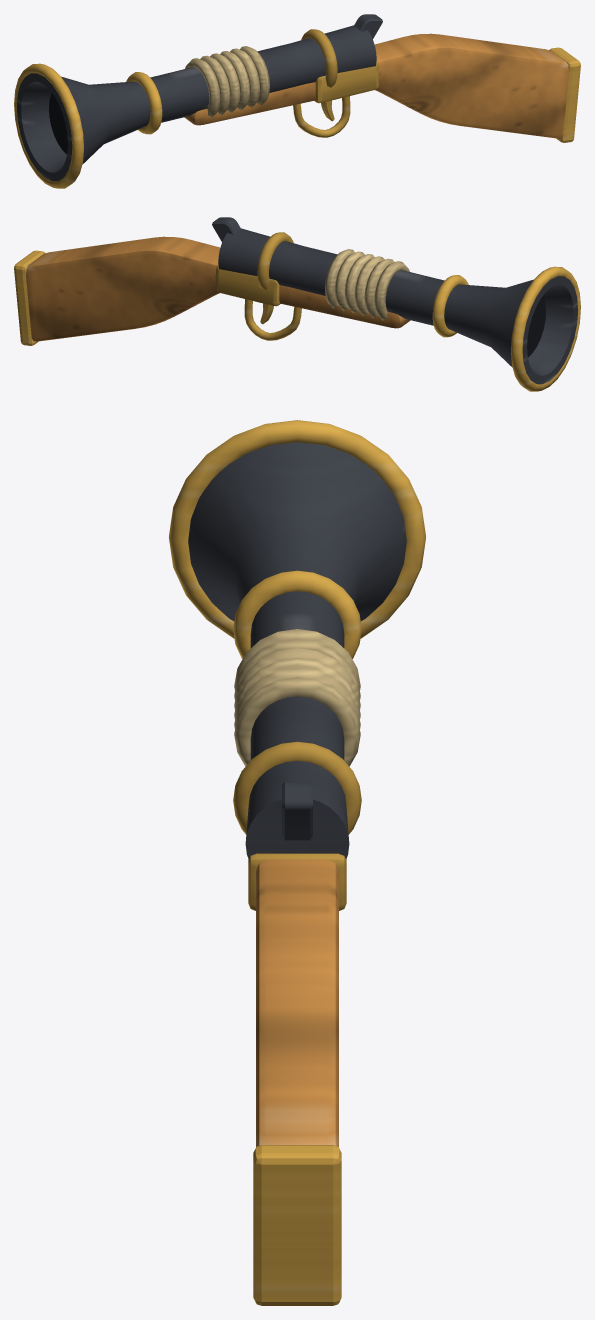
The model's file is Cannon.fbx.
3 views of the same model, one above another, from view 1: azimuth 30°, elevation 25°; view 2: azimuth 150°, elevation 25°; view 3: azimuth 270°, elevation 25° (orthographic). The views are drawn at different scales.
Visible parts, largest first — view 1: Cannon; view 2: Cannon; view 3: Cannon.
Boxes of the visible parts, x1,y1,x2,y2 form: Cannon: (14,14,580,188); Cannon: (14,217,580,391); Cannon: (169,420,425,1305).
Size of the model in its own units: 1.17 by 0.4093 by 0.248.
Materials: 5 (5 with a texture image).
